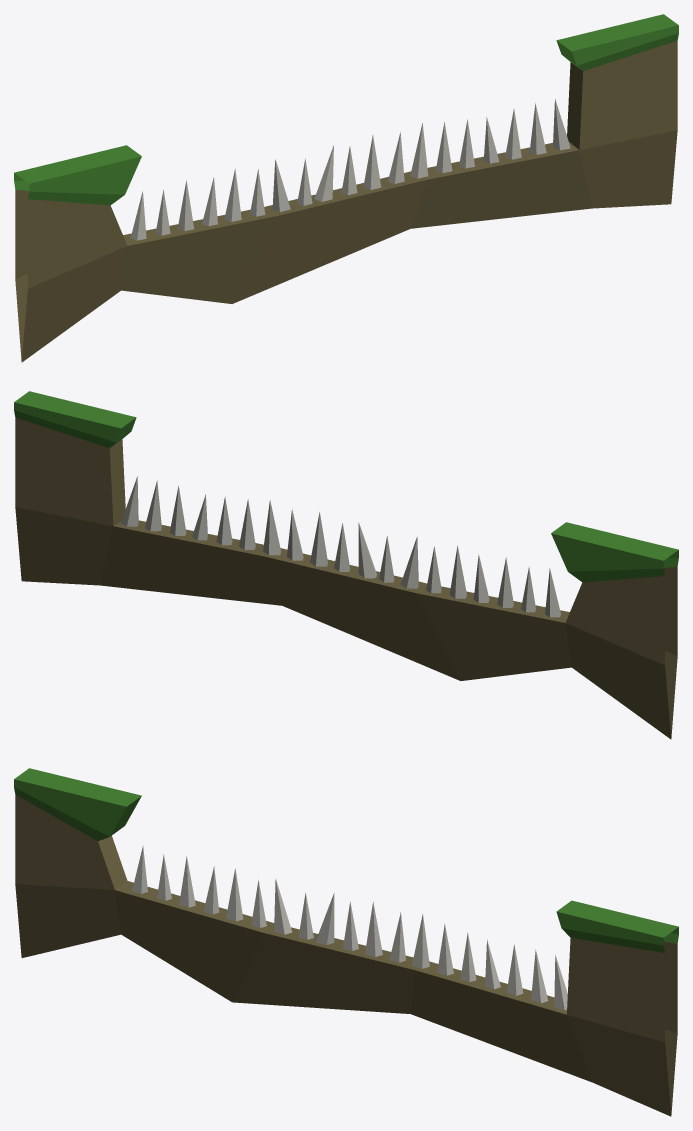
Rendered from GroundAndSpikes.fbx.
3 views of the same model, one above another, from view 1: azimuth 30°, elevation 25°; view 2: azimuth 150°, elevation 25°; view 3: azimuth 330°, elevation 25° (orthographic).
Visible parts, largest first — view 1: Grass, Spikes; view 2: Grass, Spikes; view 3: Grass, Spikes.
Boxes of the visible parts, x1=… form: Grass: x1=14, y1=14, x2=678, y2=362; Spikes: x1=130, y1=99, x2=570, y2=240; Grass: x1=14, y1=391, x2=678, y2=739; Spikes: x1=121, y1=476, x2=560, y2=617; Grass: x1=14, y1=768, x2=678, y2=1116; Spikes: x1=132, y1=845, x2=567, y2=1010.
Size of the model in its own units: 29.66 by 8.05 by 1.21.
